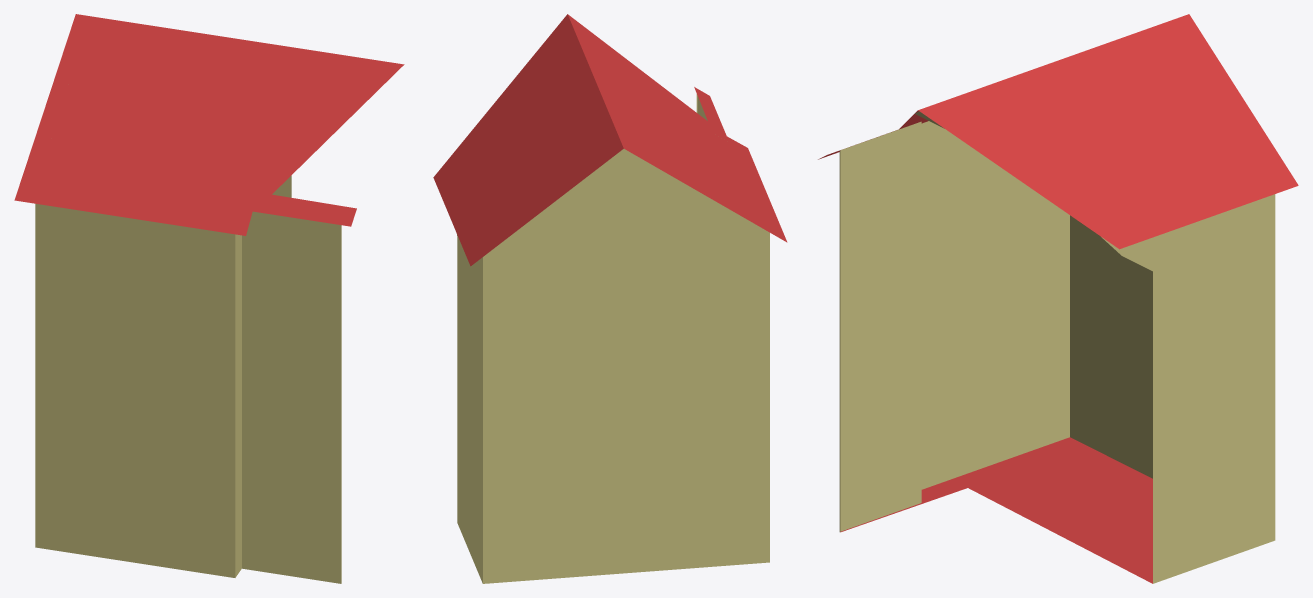
3 renders of one model, left to right at view 1: azimuth 30°, elevation 25°; view 2: azimuth 150°, elevation 25°; view 3: azimuth 270°, elevation 25°, orthographic. The views are drawn at different scales.
Bounding box in the file's own units: 12.66 × 14.53 × 15.68.
